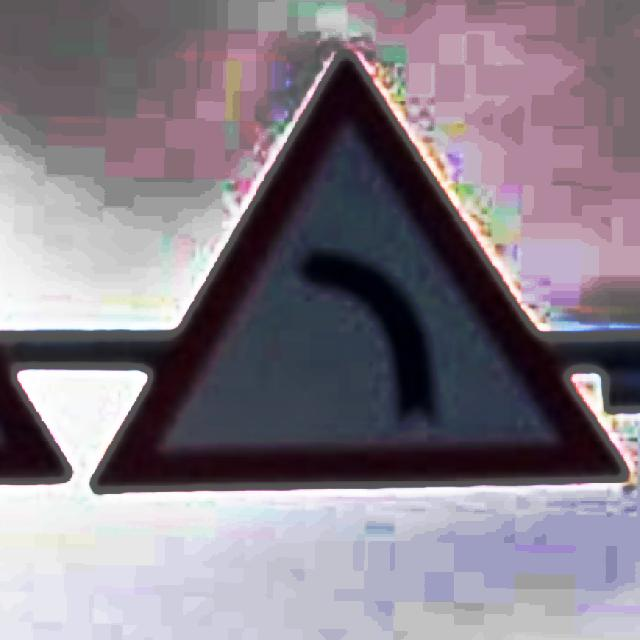leftbend: (92, 54, 629, 491)
